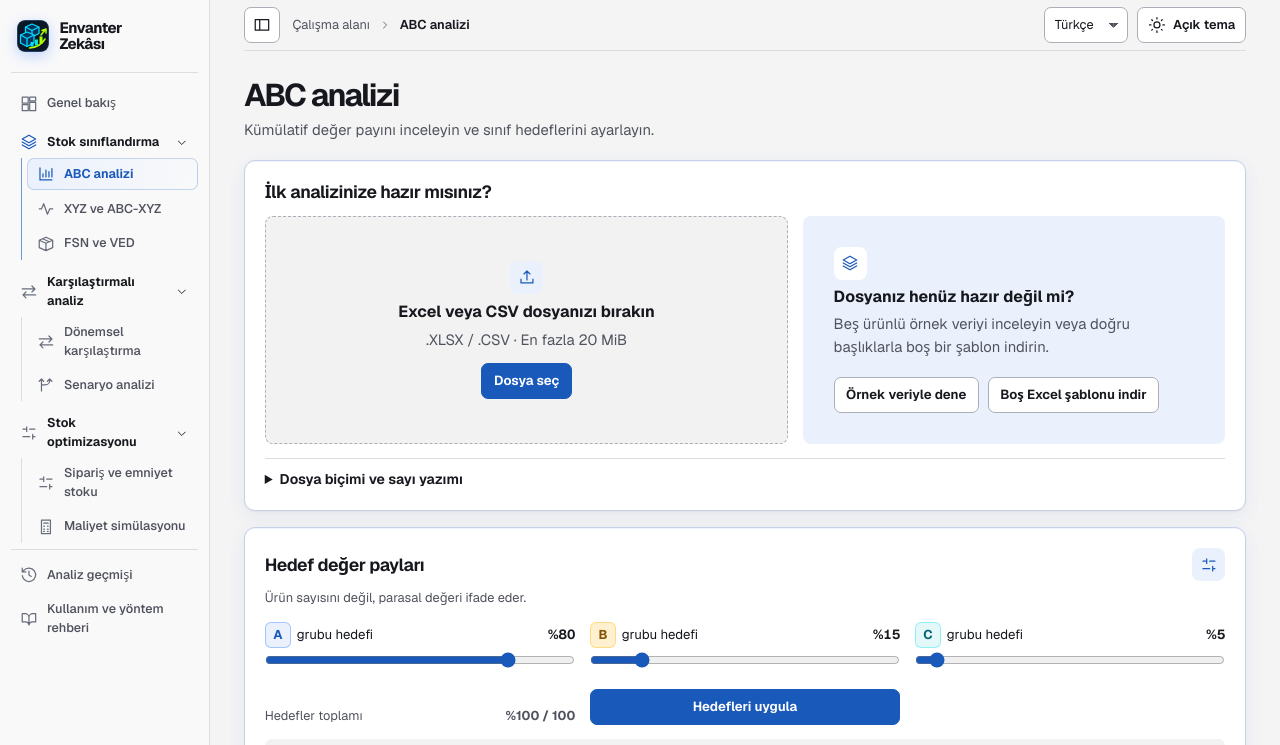
Gerçek React ekran entegrasyonu › demo gerçek KPI ve grafiklerle gösterilir
Click the button "Örnek veriyle dene" at coordinates (906, 395), box [834,377,979,413]
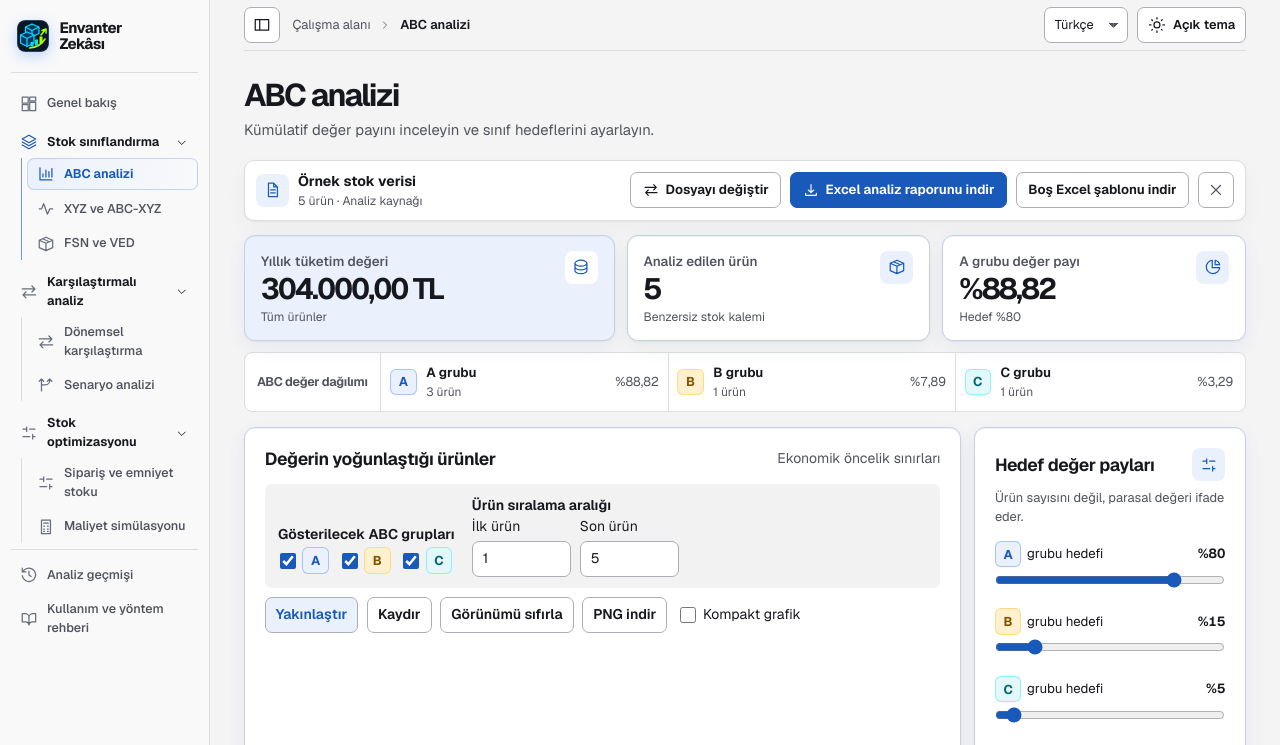
Expected: the element showing "Yıllık tüketim değeri 304.000,00 TL Tüm ürünler" is shown, [244,235,614,341]
